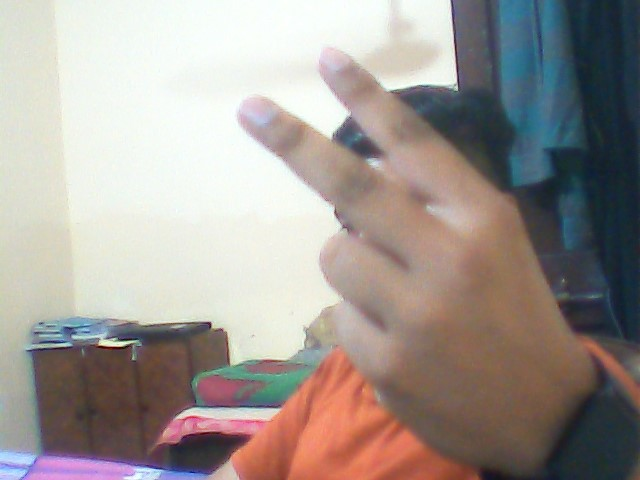Please: (231, 37, 584, 453)
